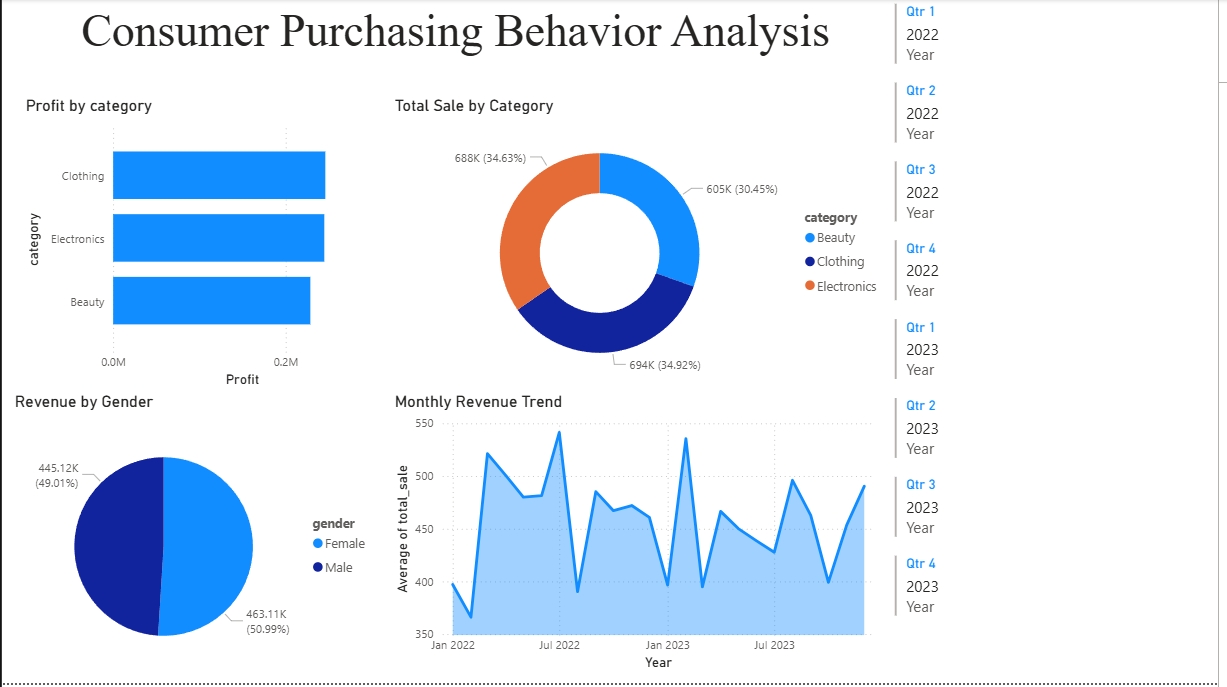

The dashboard page shown, as its layout file describes it:
{"tool":"powerbi","page":{"name":"Page 1","canvas":[1280,720],"ordinal":0},"visuals":[{"type":"clusteredBarChart","fields":{"Category":["sql_project_p1 retail_sales.category"],"Y":["sql_project_p1 retail_sales.Profit"]},"box":[20,102.1,388.4,311.6],"z":0},{"type":"pieChart","title":"Revenue by Gender","fields":{"Y":["Sum(sql_project_p1 retail_sales.total_sale)"],"Category":["sql_project_p1 retail_sales.gender"]},"box":[8.4,413.7,388.4,306.3],"z":1000},{"type":"donutChart","title":"Total Sale by Category","fields":{"Y":["Sum(sql_project_p1 retail_sales.transaction_id)"],"Series":["sql_project_p1 retail_sales.category"]},"box":[408.4,102.1,526.3,311.6],"z":2000},{"type":"multiRowCard","fields":{"Values":["sql_project_p1 retail_sales.sale_date.Variation.Date Hierarchy.Year","sql_project_p1 retail_sales.sale_date.Variation.Date Hierarchy.Quarter"]},"box":[934.7,0,315.8,720],"z":3000},{"type":"areaChart","title":"Monthly Revenue Trend","fields":{"Category":["sql_project_p1 retail_sales.sale_date.Variation.Date Hierarchy.Year","sql_project_p1 retail_sales.sale_date.Variation.Date Hierarchy.Month"],"Y":["Avg(sql_project_p1 retail_sales.total_sale)"]},"box":[408.4,413.7,526.3,297.9],"z":4000},{"type":"textbox","box":[20,0,914.7,102.1],"z":5000}]}

Visuals, with their boxes in screenshot pixels (x1, y1, x2, y2), scaled from the page's 1280x720 canvas onto the 1227x687 screenshot:
clusteredBarChart - sql_project_p1 retail_sales.category x sql_project_p1 retail_sales.Profit: (x1=19, y1=97, x2=391, y2=395)
"Revenue by Gender" pieChart: (x1=8, y1=395, x2=380, y2=686)
"Total Sale by Category" donutChart: (x1=391, y1=97, x2=896, y2=395)
multiRowCard - sql_project_p1 retail_sales.sale_date.Variation.Date Hierarchy.Year x sql_project_p1 retail_sales.sale_date.Variation.Date Hierarchy.Quarter: (x1=896, y1=0, x2=1199, y2=686)
"Monthly Revenue Trend" areaChart: (x1=391, y1=395, x2=896, y2=679)
textbox: (x1=19, y1=0, x2=896, y2=97)
